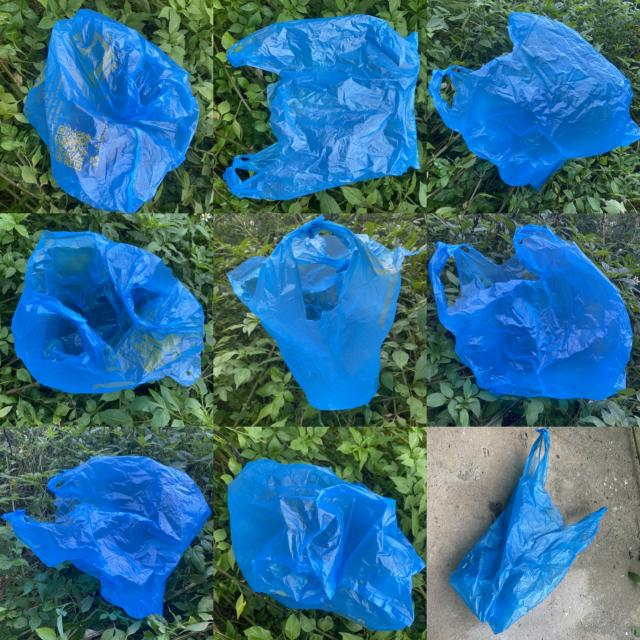Single-layer Plastic: (228, 215, 420, 410), (429, 12, 640, 189), (224, 15, 420, 199), (24, 9, 199, 212), (429, 225, 632, 399), (228, 459, 425, 630), (4, 456, 210, 618), (449, 429, 606, 634), (11, 230, 204, 392)
